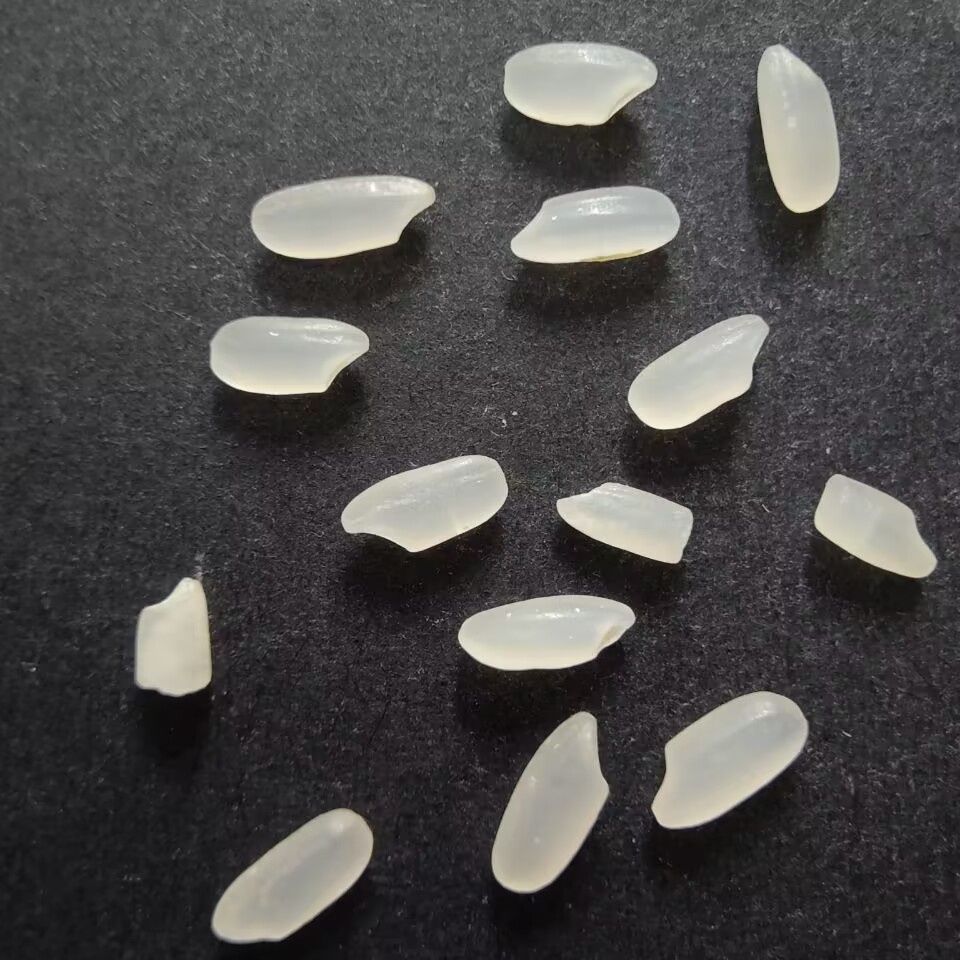broken: (812, 469, 938, 584), (549, 478, 695, 565), (125, 572, 215, 699)
rice: (203, 805, 377, 947), (484, 705, 614, 893), (644, 689, 812, 831), (622, 310, 772, 436), (336, 452, 511, 557), (245, 172, 439, 260), (752, 43, 843, 216), (455, 592, 637, 673), (508, 183, 684, 266), (204, 313, 371, 399), (495, 40, 658, 128)
